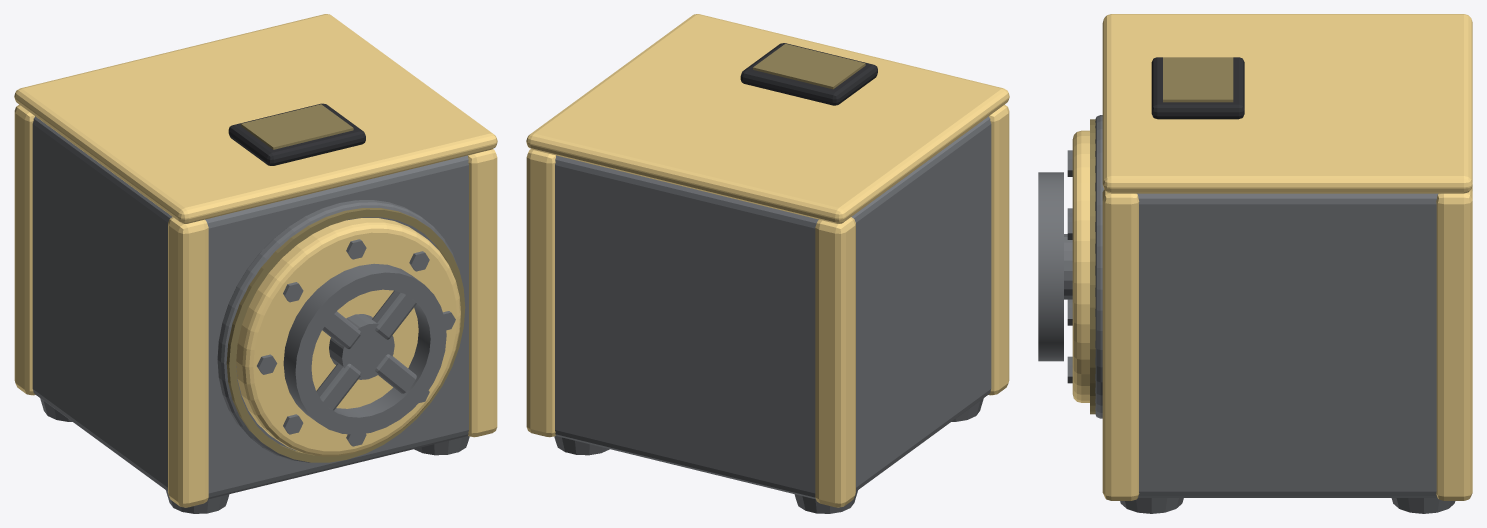
The model's file is vault.fbx.
3 renders of one model, left to right at view 1: azimuth 30°, elevation 25°; view 2: azimuth 150°, elevation 25°; view 3: azimuth 270°, elevation 25°, orthographic. The views are drawn at different scales.
Parts seen in each view (by area): view 1: gold_1, gun_1, glow_gold_1, dark_1; view 2: gun_1, gold_1, glow_gold_1, dark_1; view 3: gun_1, gold_1, glow_gold_1, dark_1.
Part boxes in pixels (<box>): gold_1: <box>14,14,497,507</box>; gun_1: <box>32,116,469,513</box>; glow_gold_1: <box>226,104,465,462</box>; dark_1: <box>228,103,365,165</box>; gun_1: <box>554,116,991,513</box>; gold_1: <box>526,14,1009,507</box>; glow_gold_1: <box>753,43,865,89</box>; dark_1: <box>740,43,877,105</box>; gun_1: <box>1038,115,1455,513</box>; gold_1: <box>1072,14,1472,500</box>; glow_gold_1: <box>1090,57,1233,414</box>; dark_1: <box>1151,57,1244,119</box>.
Bounding box in the file's own units: 0.556 × 0.552 × 0.606.
